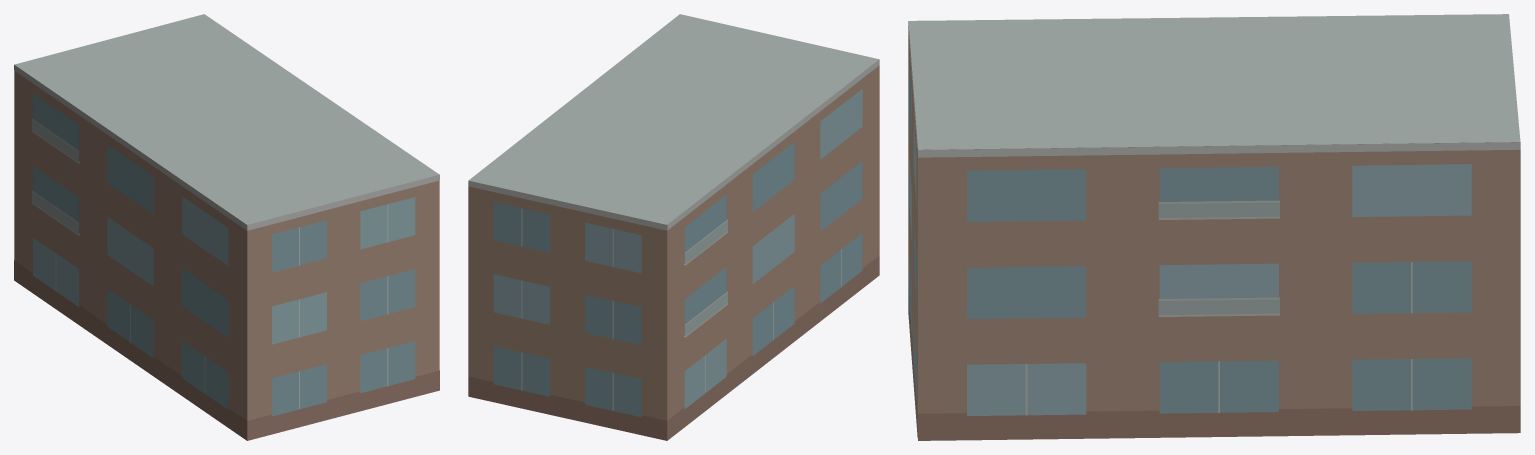
Rendered from survey-upis-32478214.glb.
3 views of the same model, side by side, from view 1: azimuth 30°, elevation 25°; view 2: azimuth 150°, elevation 25°; view 3: azimuth 270°, elevation 25° (orthographic). The views are drawn at different scales.
Visible parts, largest first — view 1: survey-upis-32478214.tmp; view 2: survey-upis-32478214.tmp; view 3: survey-upis-32478214.tmp.
Boxes of the visible parts, left/top/right/bottom form: survey-upis-32478214.tmp: left=14, top=14, right=439, bottom=440; survey-upis-32478214.tmp: left=468, top=14, right=879, bottom=440; survey-upis-32478214.tmp: left=908, top=14, right=1520, bottom=440.
Size of the model in its own units: 9.12 by 9.1 by 17.36.
